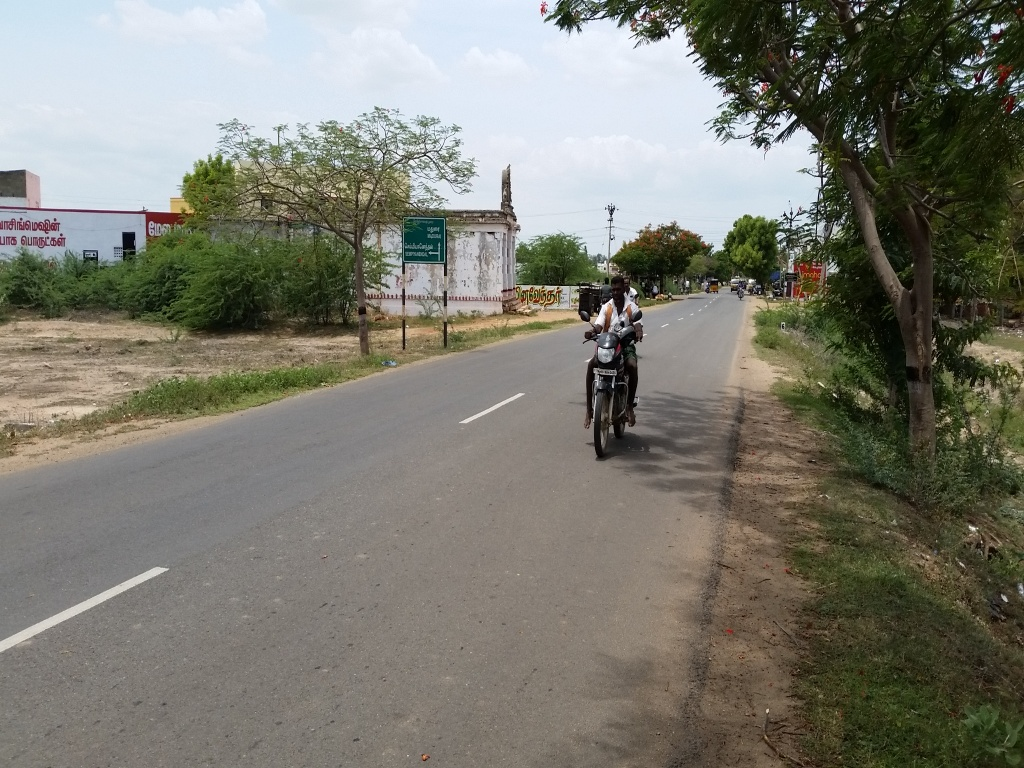biker: (548, 258, 678, 465)
nohelmet: (603, 271, 631, 317)
